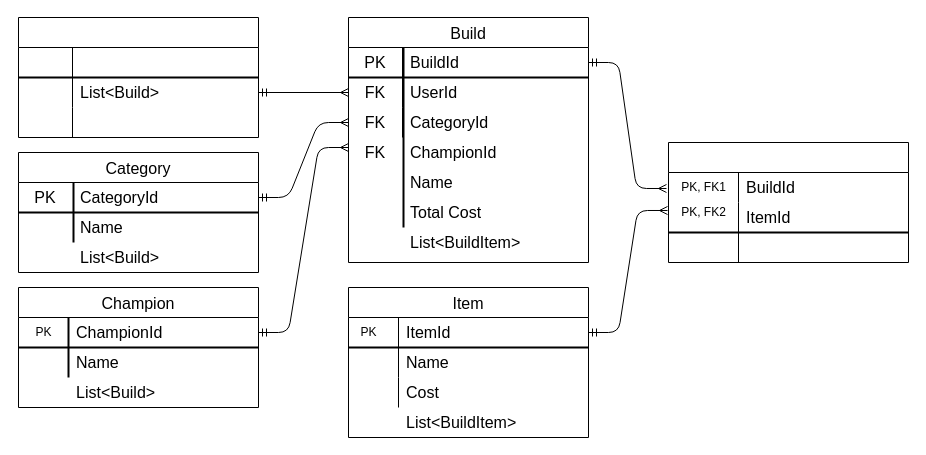
This 926x455 diagram has some shape labels left out. The box of each missing label's shape, as (x1, y1, x2, y2) in pixels:
ApplicationUser : IdentityUser: (18, 16, 258, 138)
BuildItem: (668, 142, 908, 262)
